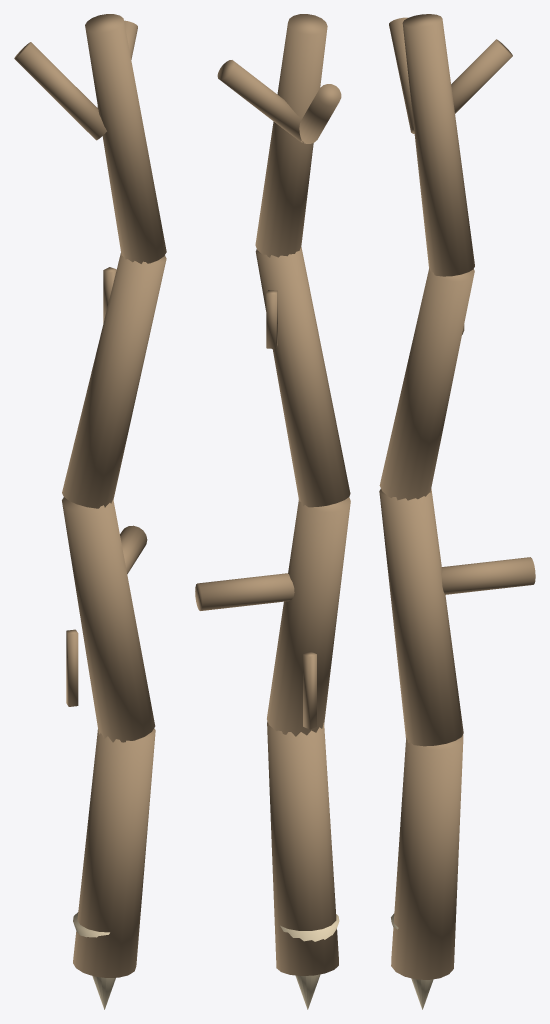
Rendered from stick_3.glb.
The picture shows the model from 3 angles, left to right: view 1: azimuth 30°, elevation 25°; view 2: azimuth 150°, elevation 25°; view 3: azimuth 330°, elevation 25°; orthographic projection.
Parts seen in each view (by area): view 1: Main_Shaft, Fork_A, Bark_Ridge_2, Side_Branch_1, Frayed_Tip, Bark_Ridge_1; view 2: Main_Shaft, Side_Branch_1, Fork_B, Fork_A, Bark_Ridge_2, Frayed_Tip, Bark_Ridge_1; view 3: Main_Shaft, Side_Branch_1, Fork_B, Fork_A, Frayed_Tip.
Part boxes in pixels (x1,y1,x2,y2): Main_Shaft: [62, 14, 166, 977]; Fork_A: [14, 42, 106, 140]; Bark_Ridge_2: [66, 629, 78, 706]; Side_Branch_1: [120, 525, 147, 573]; Frayed_Tip: [73, 912, 115, 1009]; Bark_Ridge_1: [103, 267, 116, 323]; Main_Shaft: [255, 14, 350, 975]; Side_Branch_1: [195, 573, 294, 610]; Fork_B: [217, 60, 303, 142]; Fork_A: [299, 84, 341, 143]; Bark_Ridge_2: [303, 651, 316, 729]; Frayed_Tip: [280, 914, 339, 1009]; Bark_Ridge_1: [266, 290, 277, 348]; Main_Shaft: [379, 14, 474, 979]; Side_Branch_1: [442, 557, 535, 594]; Fork_B: [451, 39, 512, 113]; Fork_A: [389, 17, 414, 133]; Frayed_Tip: [391, 913, 433, 1009].
Bounding box in the file's own units: 0.08 × 0.5466 × 0.0644.
